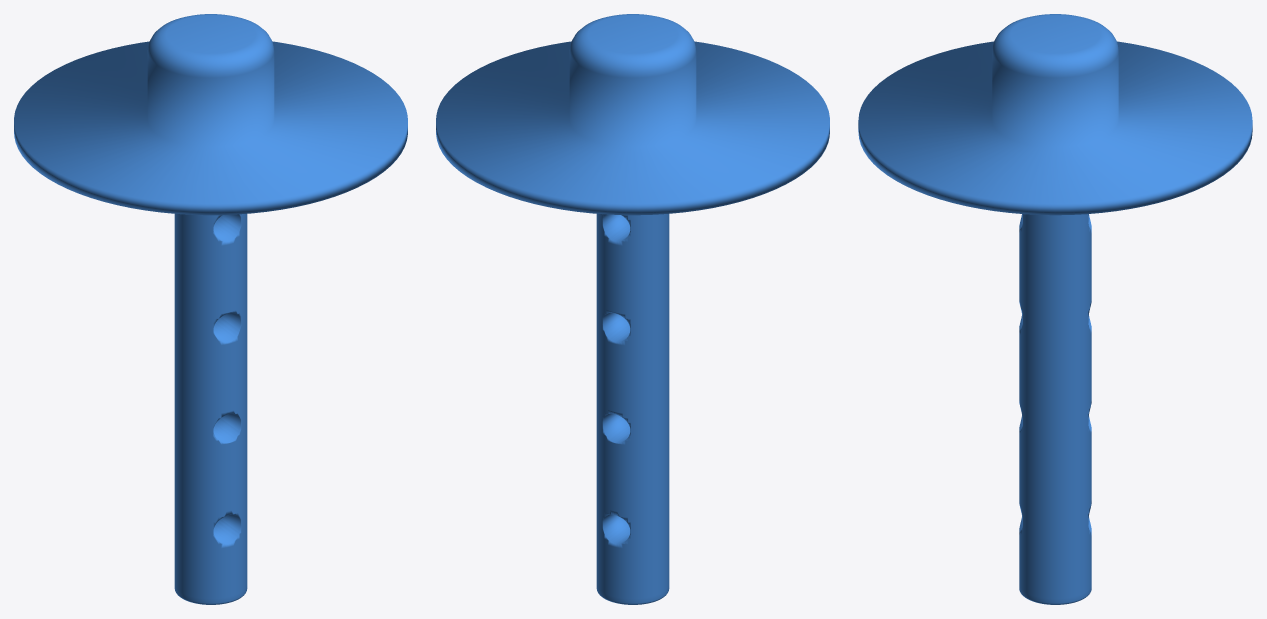
Rendered from xyma7.glb.
The picture shows the model from 3 angles, left to right: view 1: azimuth 30°, elevation 25°; view 2: azimuth 150°, elevation 25°; view 3: azimuth 270°, elevation 25°; orthographic projection.
Parts seen in each view (by area): view 1: Cylinder; view 2: Cylinder; view 3: Cylinder.
Part boxes in pixels (left/top/right/bottom): Cylinder: left=14, top=14, right=407, bottom=604; Cylinder: left=436, top=14, right=829, bottom=604; Cylinder: left=858, top=14, right=1252, bottom=604.
Size of the model in its own units: 6.23 by 9.7 by 6.23.
